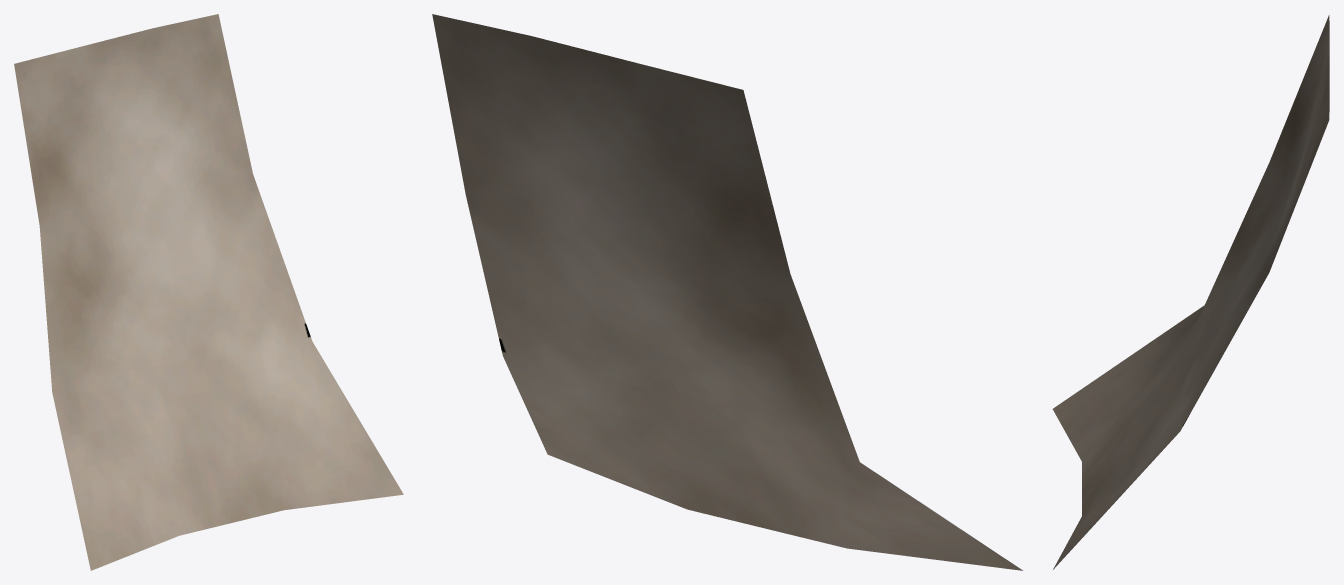
The model's file is web_03.fbx.
3 views of the same model, side by side, from view 1: azimuth 30°, elevation 25°; view 2: azimuth 150°, elevation 25°; view 3: azimuth 270°, elevation 25° (orthographic). The views are drawn at different scales.
Visible parts, largest first — view 1: mine_tileset/mine_web01_mat; view 2: mine_tileset/mine_web01_mat; view 3: mine_tileset/mine_web01_mat.
Part boxes in pixels (box(x1,y1,x2,y2)): mine_tileset/mine_web01_mat: box(14, 14, 403, 570); mine_tileset/mine_web01_mat: box(432, 14, 1023, 570); mine_tileset/mine_web01_mat: box(1052, 15, 1329, 569).
Bounding box in the file's own units: 4.59 × 5.61 × 3.32.
